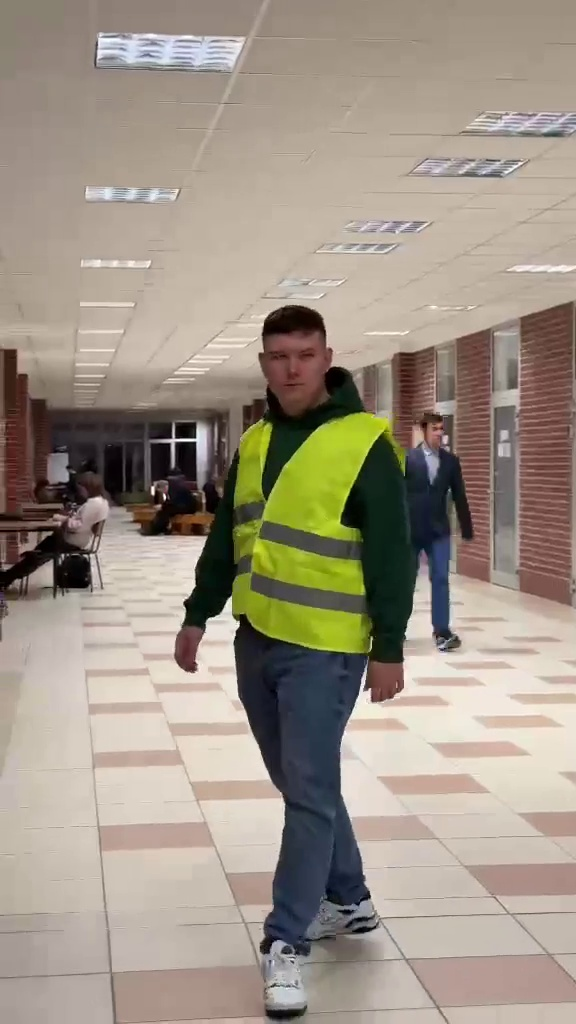no vest: (398, 401, 469, 651), (2, 473, 99, 599)
vest: (178, 306, 403, 1010)
